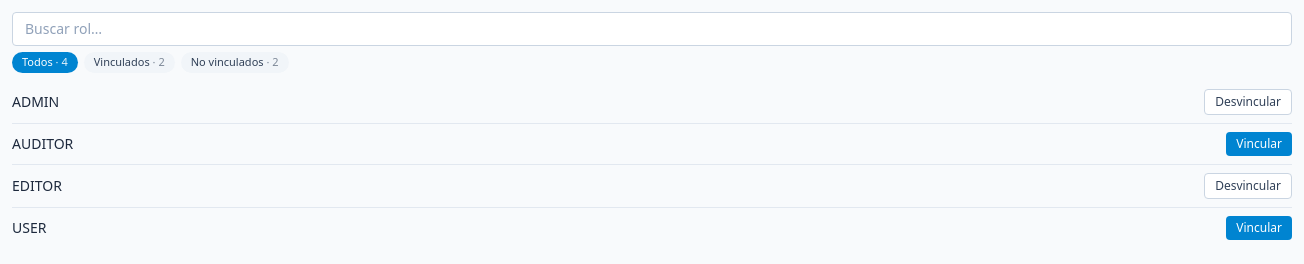
Scenario: BindingTab › tier 1 toolbar › clear-button (×) on the search input empties the filter
The image size is (1304, 264).
In the search field with test id "role-toggle-search": {"x": 652, "y": 29} [12,12,1292,46], type "admin"
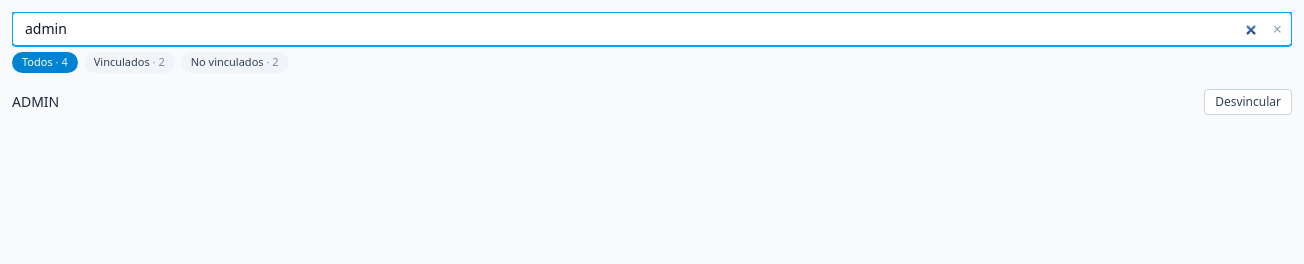
expect the list item with test id "role-toggle-row-2" is gone: met
Click the button with test id "role-toggle-search-clear": {"x": 1277, "y": 29} [1271,15,1284,43]
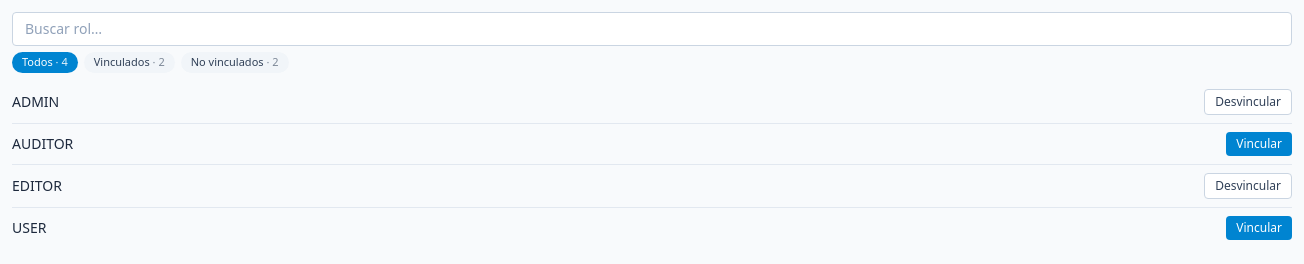
expect the search field with test id "role-toggle-search" is empty: met, box [12,12,1292,46]
expect the list item with test id "role-toggle-row-2" is shown: met, box [12,124,1292,164]
expect the list item with test id "role-toggle-row-3" is shown: met, box [12,164,1292,208]
